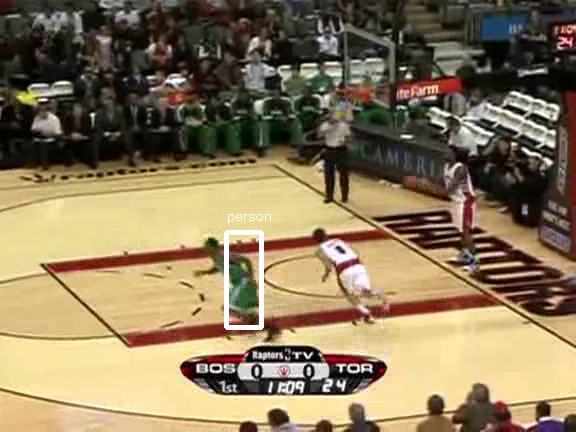person: (221, 242, 255, 323), (220, 242, 254, 323), (222, 242, 256, 323), (221, 241, 255, 322), (221, 243, 255, 324)
target_negative: (388, 1, 510, 270), (237, 383, 531, 401), (388, 393, 543, 401), (98, 414, 217, 421), (567, 147, 571, 258), (262, 129, 264, 230)
